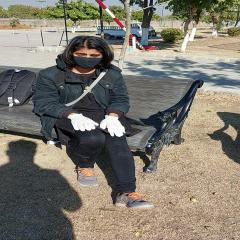gloved: (68, 113, 98, 132), (100, 115, 126, 136)
